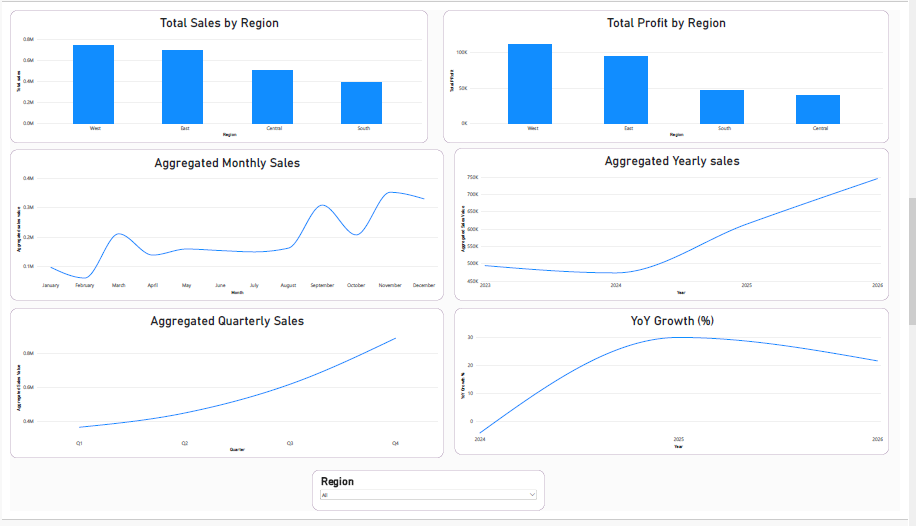

What the dashboard file says about the page in this screenshot:
{"tool":"powerbi","page":{"name":"Regional & Time Analysis","canvas":[2560,1440],"ordinal":3},"visuals":[{"type":"slicer","fields":{"Values":["samplesuperstore.Region"]},"box":[1604.4,952.4,300.5,90.7],"z":0},{"type":"clusteredColumnChart","title":"Total Sales by Region","fields":{"Category":["samplesuperstore.Region"],"Y":["Sum(samplesuperstore.Sales)"]},"box":[0,0,1201.9,381.7],"z":1000},{"type":"clusteredColumnChart","title":"Total Profit by Region","fields":{"Category":["samplesuperstore.Region"],"Y":["Sum(samplesuperstore.Profit)"]},"box":[1247.3,0,1281.3,381.7],"z":2000},{"type":"lineChart","title":"Aggregated Monthly Sales","fields":{"Category":["samplesuperstore.Month Name"],"Y":["Sum(samplesuperstore.Sales)"]},"box":[0,400.6,1247.3,434.6],"z":3000},{"type":"lineChart","title":"Aggregated Yearly sales","fields":{"Category":["samplesuperstore.Year"],"Y":["Sum(samplesuperstore.Sales)"]},"box":[1278.5,397,1250.4,437.6],"z":4000},{"type":"lineChart","title":"Aggregated Quarterly Sales","fields":{"Category":["samplesuperstore.Quarter Label"],"Y":["Sum(samplesuperstore.Sales)"]},"box":[0,858,1247.3,430.9],"z":5000},{"type":"lineChart","title":"YoY Growth (%)","fields":{"Category":["samplesuperstore.Year"],"Y":["samplesuperstore.YoY Growth %"]},"box":[1278.5,856.5,1250.4,422],"z":6000},{"type":"slicer","fields":{"Values":["samplesuperstore.Region"]},"box":[869.3,1322.8,669,117.2],"z":7000}]}

Visuals, with their boxes in screenshot pixels (x1, y1, x2, y2), scaled from the page's 2560x1440 canvas onto the 916x526 screenshot:
slicer - samplesuperstore.Region: <bbox>574, 348, 682, 381</bbox>
"Total Sales by Region" clusteredColumnChart: <bbox>0, 0, 430, 139</bbox>
"Total Profit by Region" clusteredColumnChart: <bbox>446, 0, 905, 139</bbox>
"Aggregated Monthly Sales" lineChart: <bbox>0, 146, 446, 305</bbox>
"Aggregated Yearly sales" lineChart: <bbox>457, 145, 905, 305</bbox>
"Aggregated Quarterly Sales" lineChart: <bbox>0, 313, 446, 471</bbox>
"YoY Growth (%)" lineChart: <bbox>457, 313, 905, 467</bbox>
slicer - samplesuperstore.Region: <bbox>311, 483, 550, 525</bbox>
